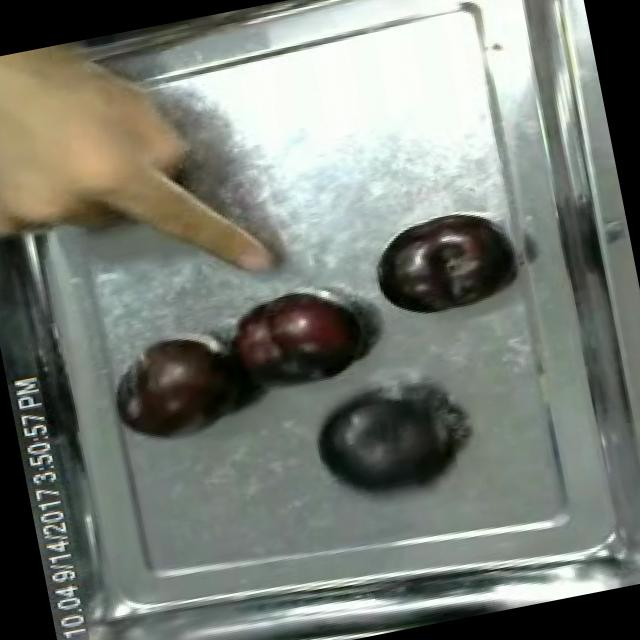Fruit: (301, 378, 463, 513), (212, 274, 378, 404), (361, 204, 523, 328), (108, 319, 252, 453)
